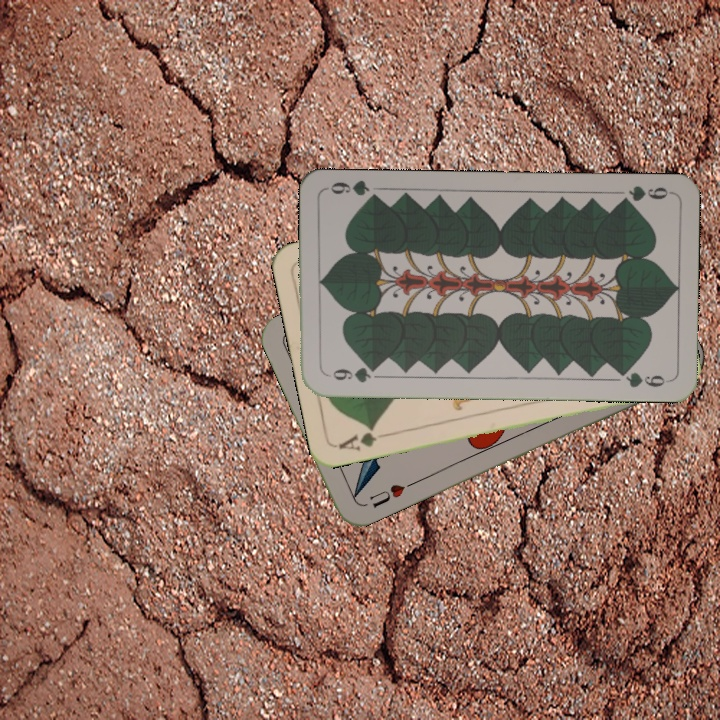G9: (614, 181, 673, 207), (322, 363, 381, 386)
GA: (335, 423, 392, 454)
HU: (365, 478, 416, 511)
